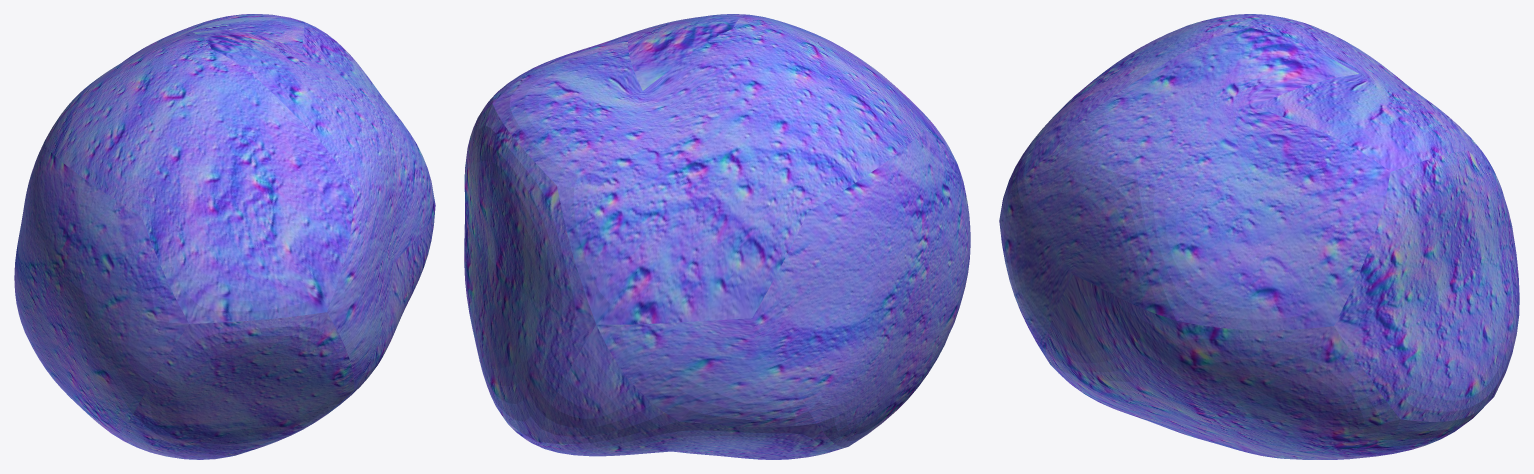
Rendered from bigasteroid9_LOD1.fbx.
3 views of the same model, side by side, from view 1: azimuth 30°, elevation 25°; view 2: azimuth 150°, elevation 25°; view 3: azimuth 270°, elevation 25° (orthographic). The views are drawn at different scales.
Parts seen in each view (by area): view 1: Icosphere; view 2: Icosphere; view 3: Icosphere.
Part boxes in pixels (<box>): Icosphere: <box>14,14,435,459</box>; Icosphere: <box>464,14,970,459</box>; Icosphere: <box>999,14,1519,459</box>.
Size of the model in its own units: 211 by 209 by 238.
